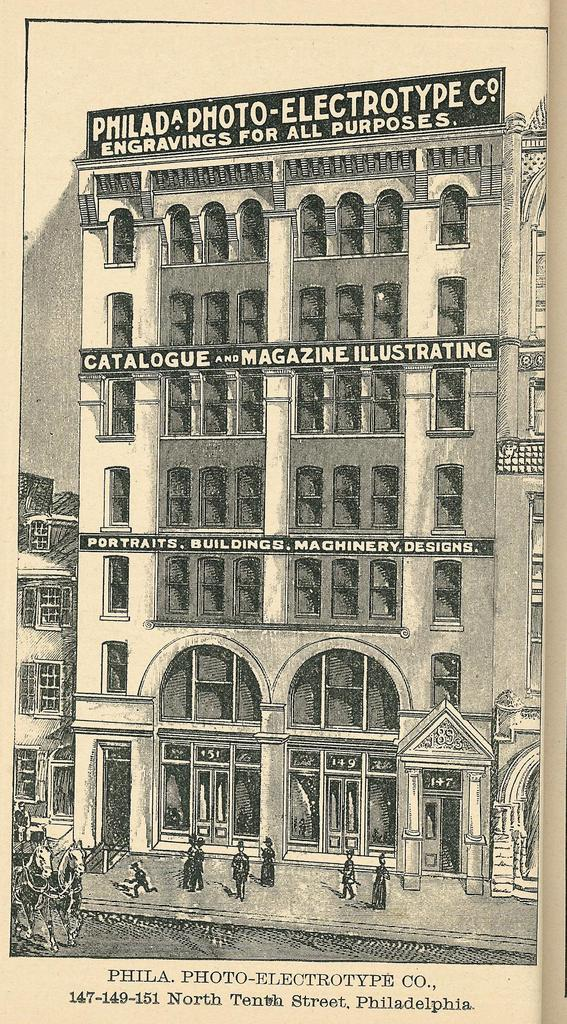Door: (189, 765, 233, 845), (420, 793, 459, 876), (100, 758, 133, 851), (325, 771, 361, 851), (51, 760, 79, 819)
